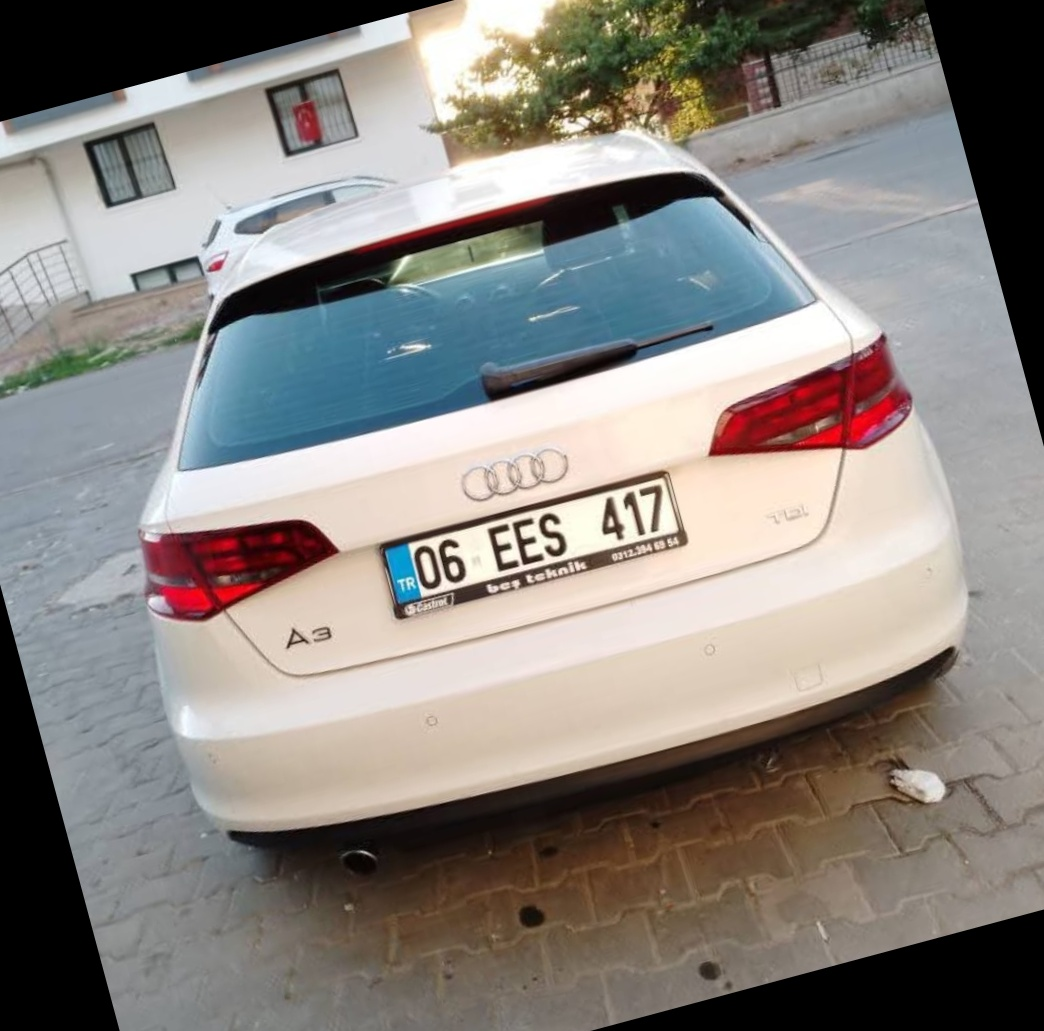plaka: (402, 481, 680, 587)
